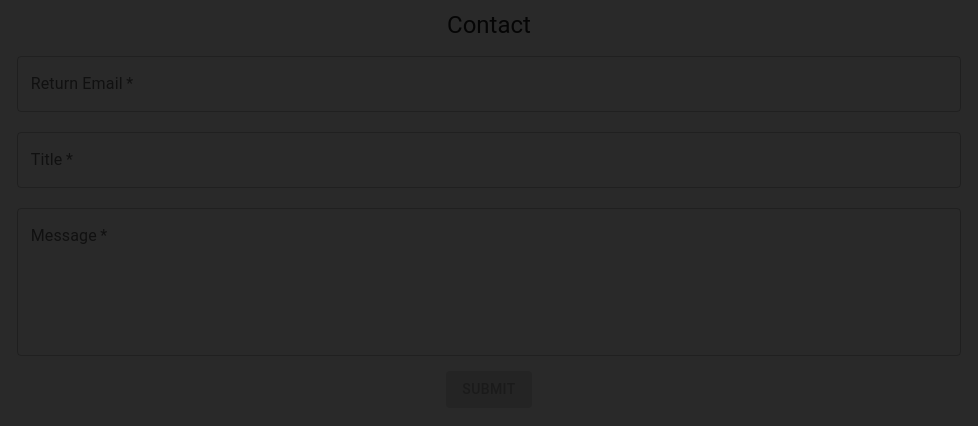
Test case: Contact › enables submit button after all three fields are filled out
Type "email" into the field labelled "Return Email" at (489, 84), box [17,56,961,112]
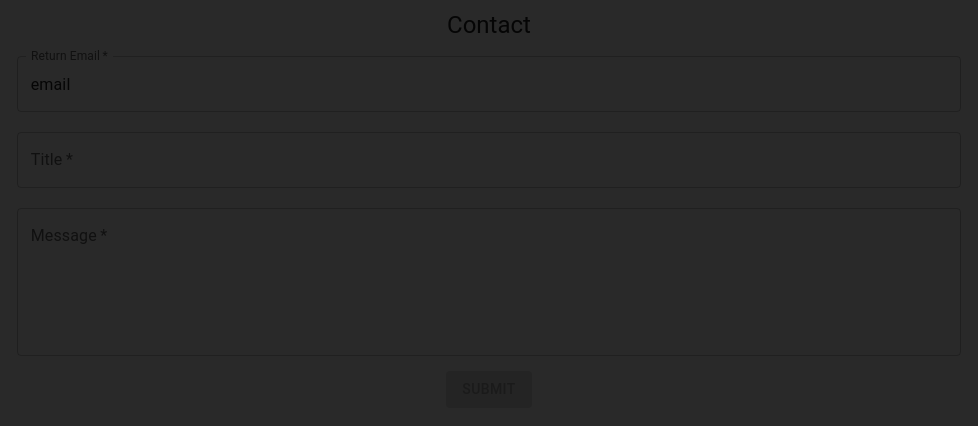
Type "title" into the field labelled "Title" at (489, 160), box [17,132,961,188]
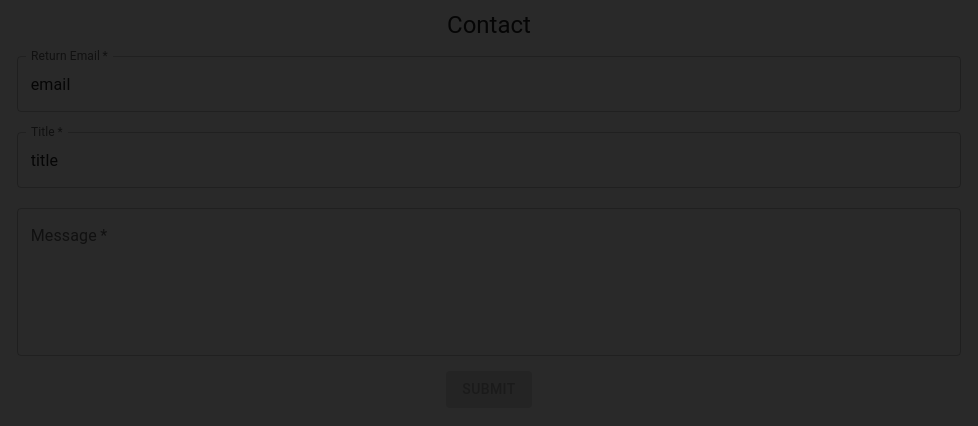
Type "message" into the text box labelled "Message" at (489, 282), box [31,224,947,340]
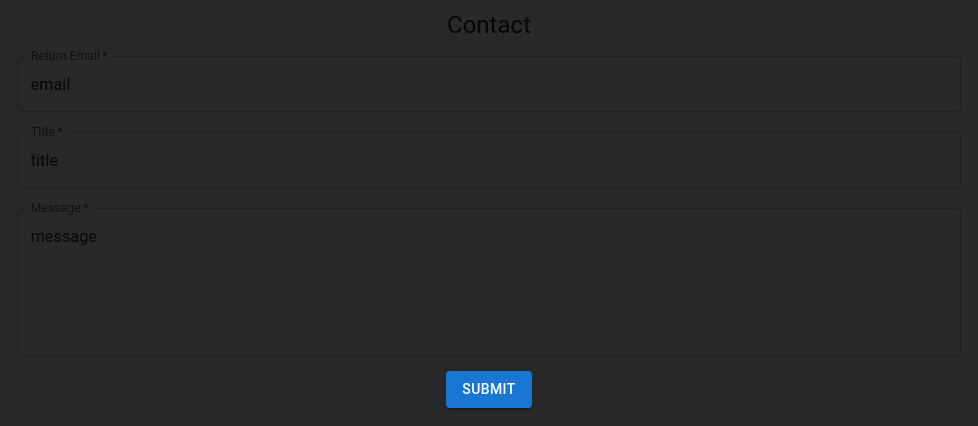
Check: the button "Submit" is enabled, box [446,371,532,408]
